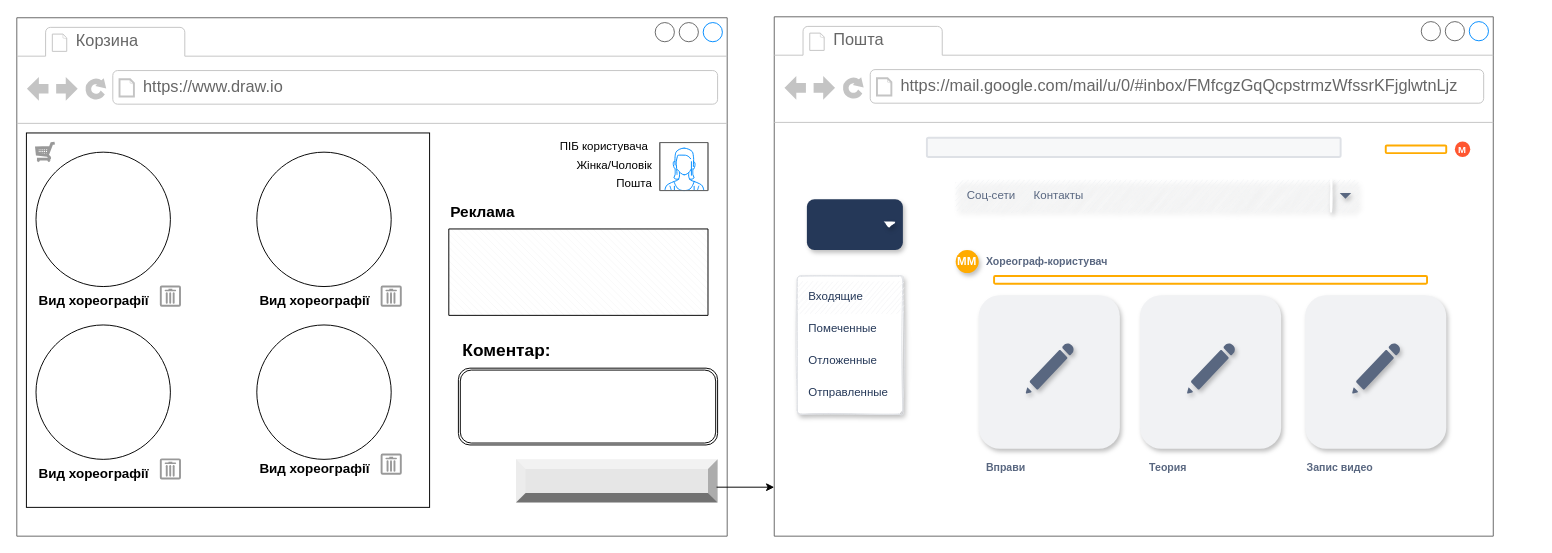
The diagram is 1552 pixels wide and 553 high, and some of its shapes have lost their labels. The shapes that lost their labels are listed below. From the top down, each one's centre as x and y in pixels, then its label:
[1133,146]: Поиск
[855,225]: Написати
[616,480]: Зробити замовлення
